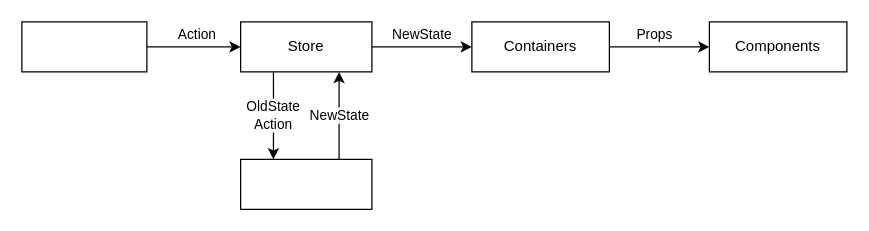
Image size: 869x231. Some labels were removed from this diagram. Each missing label, with the centre of its shape:
Action Creators: point (84, 46)
Reducers: point (305, 183)
